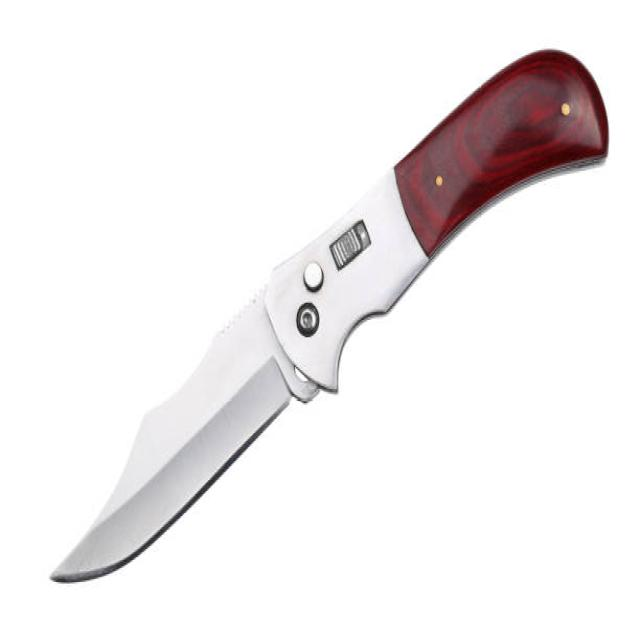knife: (48, 42, 612, 592)
